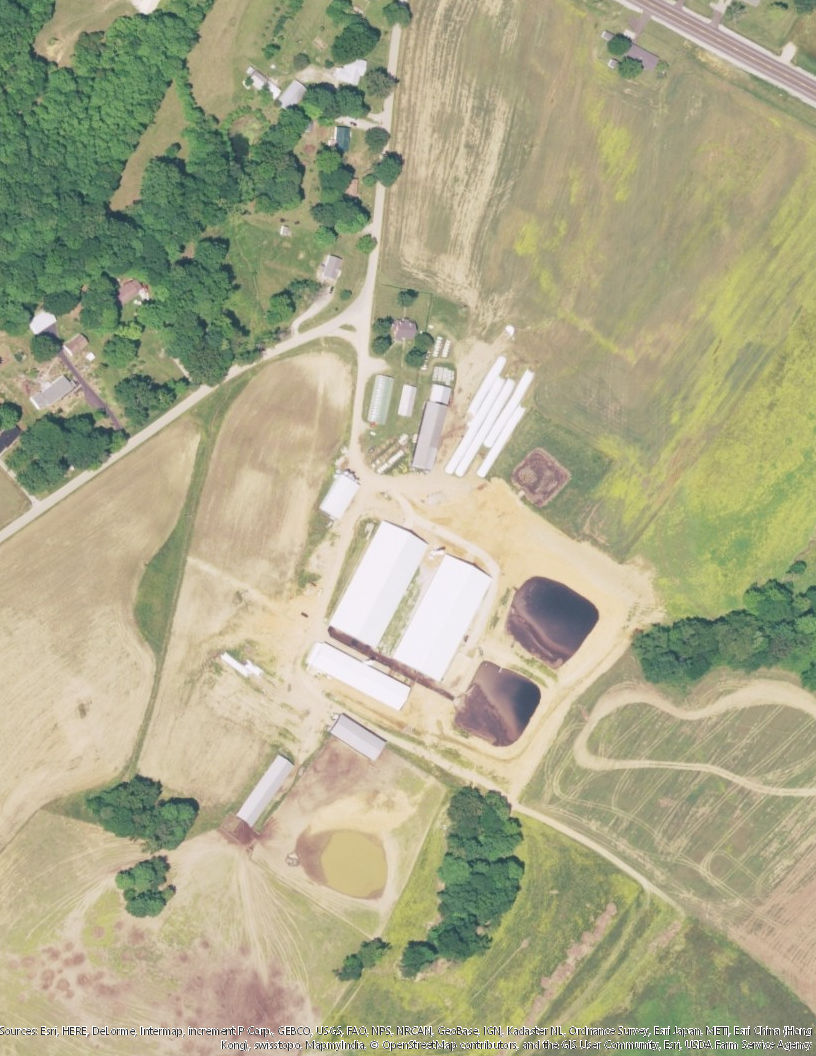cafo: (327, 521, 430, 653), (396, 550, 493, 683), (304, 635, 418, 721), (239, 748, 295, 828), (325, 711, 396, 769), (411, 384, 453, 475), (320, 473, 365, 521), (366, 372, 398, 427)
